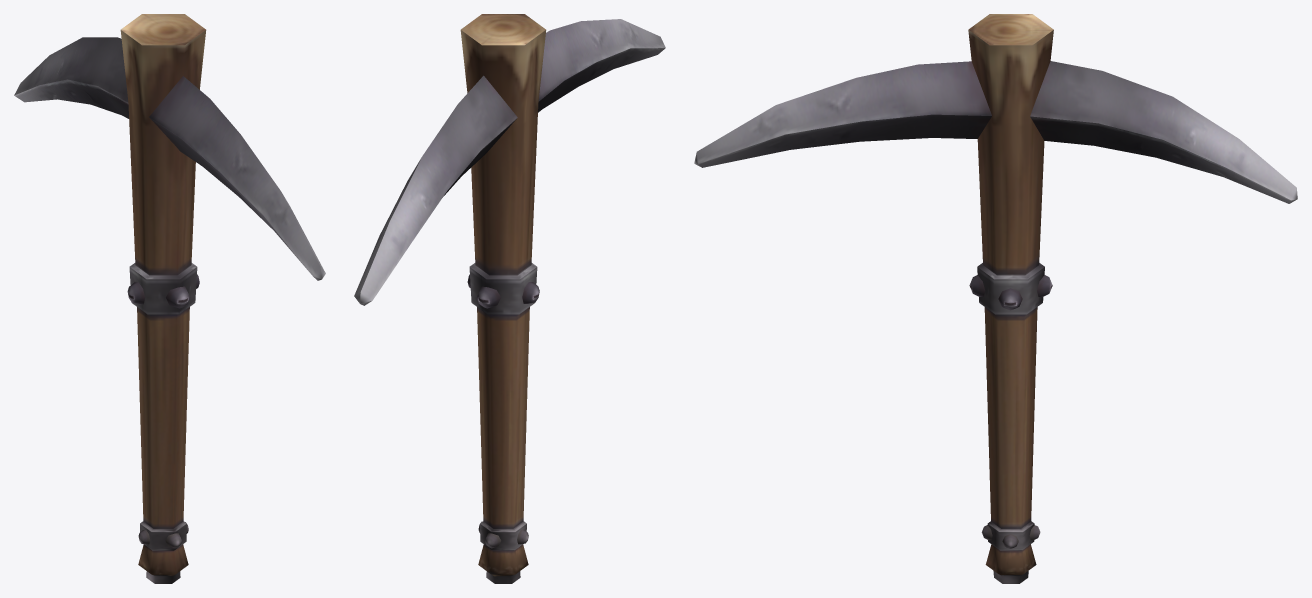
The model's file is Pickaxe.FBX.
3 renders of one model, left to right at view 1: azimuth 30°, elevation 25°; view 2: azimuth 150°, elevation 25°; view 3: azimuth 270°, elevation 25°, orthographic.
Visible parts, largest first — view 1: Pickaxe; view 2: Pickaxe; view 3: Pickaxe.
Part boxes in pixels (left/top/right/bottom): Pickaxe: left=14, top=14, right=325, bottom=583; Pickaxe: left=354, top=14, right=665, bottom=583; Pickaxe: left=694, top=14, right=1297, bottom=583.
Bounding box in the file's own units: 0.0883 × 0.6633 × 0.662.
